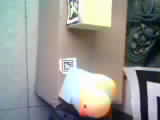duck: (58, 66, 117, 115)
